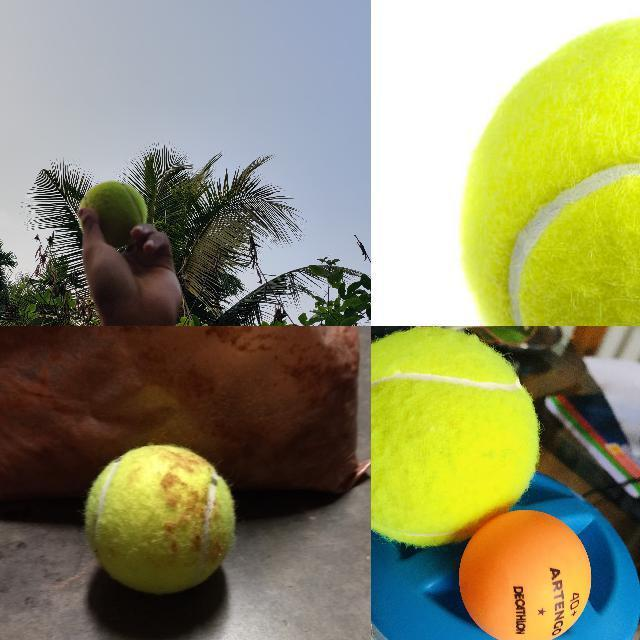tennis-ball: (459, 16, 639, 325), (371, 328, 538, 510), (82, 444, 236, 595), (77, 181, 147, 246)
